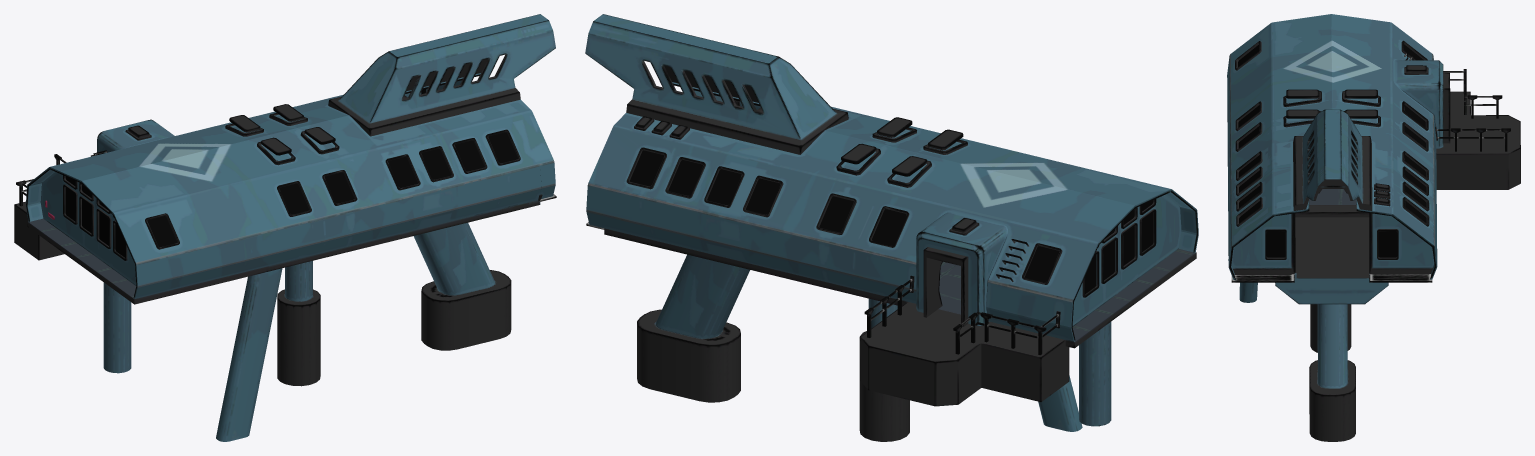
File: Shelter.dae
The picture shows the model from 3 angles, left to right: view 1: azimuth 30°, elevation 25°; view 2: azimuth 150°, elevation 25°; view 3: azimuth 270°, elevation 25°; orthographic projection. The views are drawn at different scales.
Visible parts, largest first — view 1: SubMesh_0.034; view 2: SubMesh_0.034; view 3: SubMesh_0.034.
Boxes of the visible parts, x1,y1,x2,y2 form: SubMesh_0.034: [14, 14, 556, 441]; SubMesh_0.034: [585, 14, 1198, 441]; SubMesh_0.034: [1227, 14, 1520, 441].
Size of the model in its own units: 25.7 by 14.99 by 15.77.
